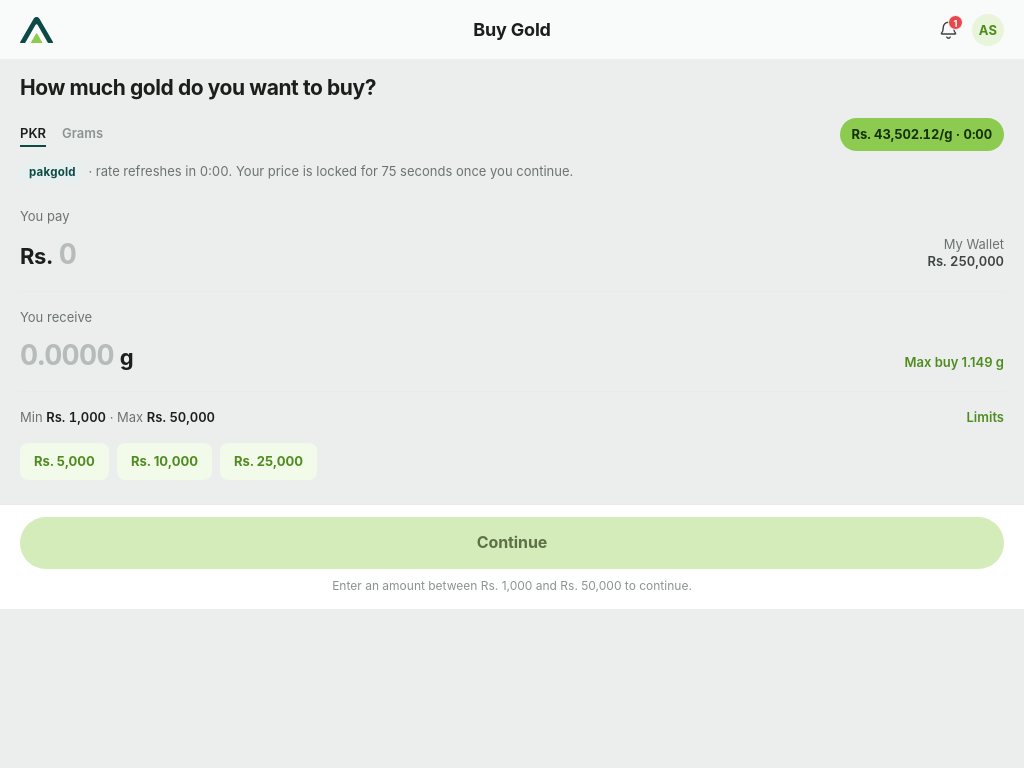
Test: insufficiency is reported with the real shortfall › blames the platform, not the user, when inventory runs out
This screenshot has width=1024, height=768.
Step 1. Type "50000" into the field named "You pay in PKR" → (487, 254), box left=59, top=234, right=915, bottom=275
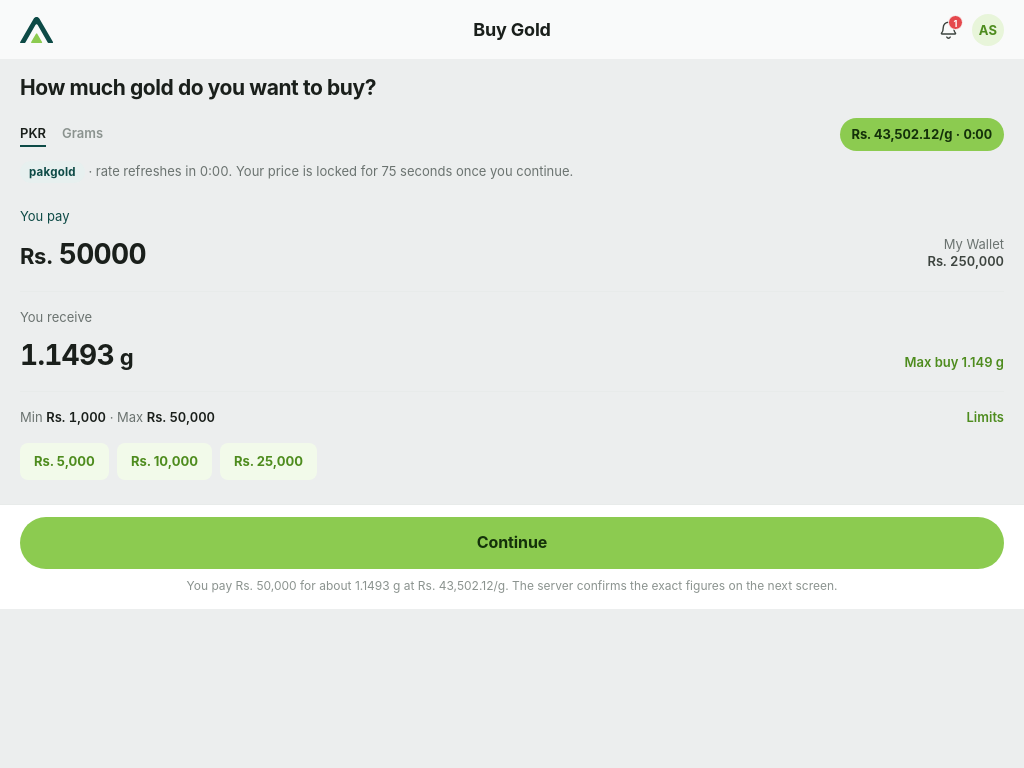
Step 2. Click the button "Continue" → (512, 543), box left=20, top=517, right=1004, bottom=569
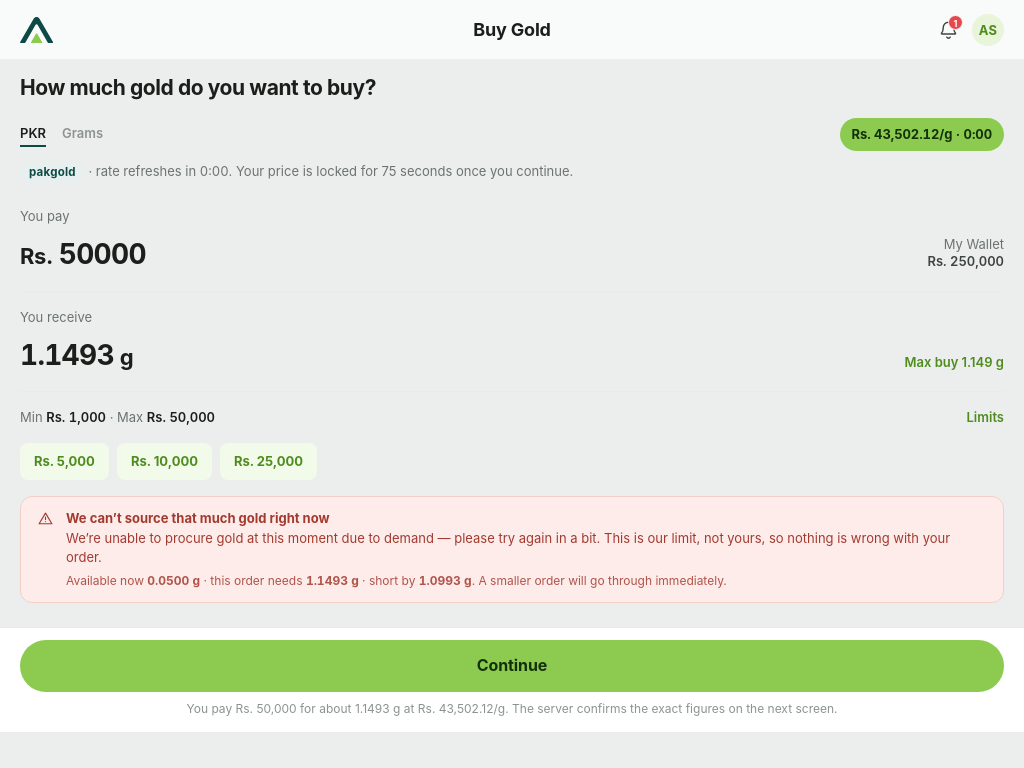
Expected: the text "try again in a bit" is shown, left=66, top=530, right=950, bottom=565
